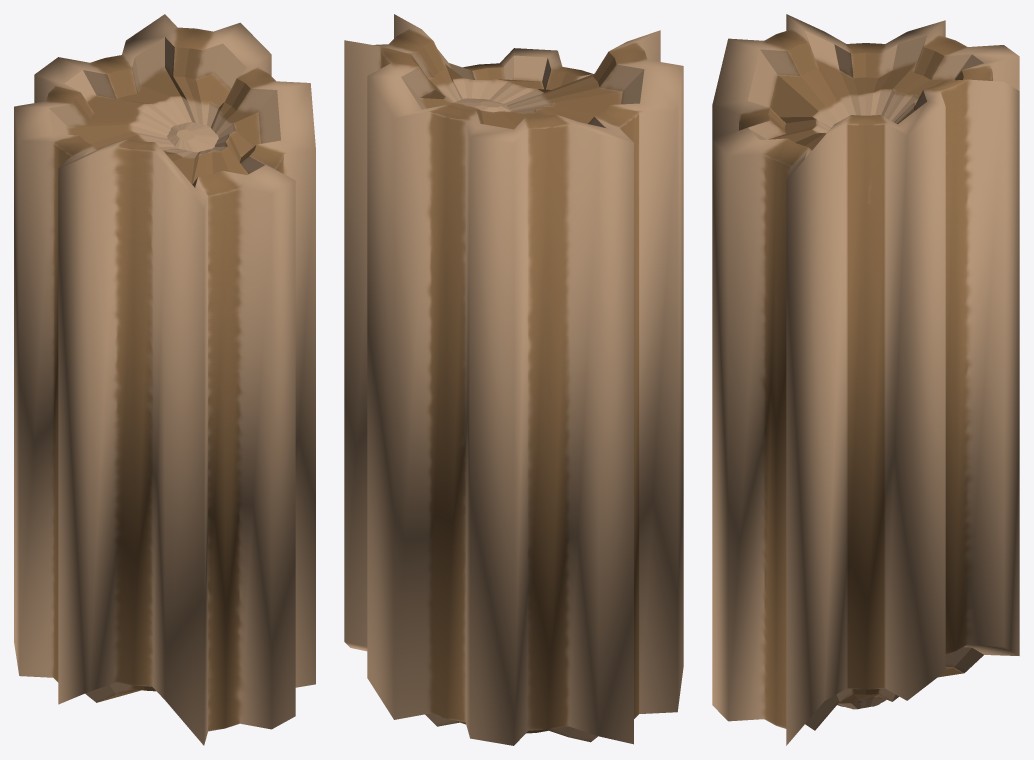
File: Pilar_Meio.fbx
The picture shows the model from 3 angles, left to right: view 1: azimuth 30°, elevation 25°; view 2: azimuth 150°, elevation 25°; view 3: azimuth 270°, elevation 25°; orthographic projection. The views are drawn at different scales.
Visible parts, largest first — view 1: Pillar_Mid; view 2: Pillar_Mid; view 3: Pillar_Mid.
Part boxes in pixels (box(x1,y1,x2,y2)): Pillar_Mid: box(14, 14, 315, 745); Pillar_Mid: box(344, 14, 683, 745); Pillar_Mid: box(712, 14, 1019, 745).
Size of the model in its own units: 130 by 130 by 301.
Materials: 1 (1 with a texture image).
